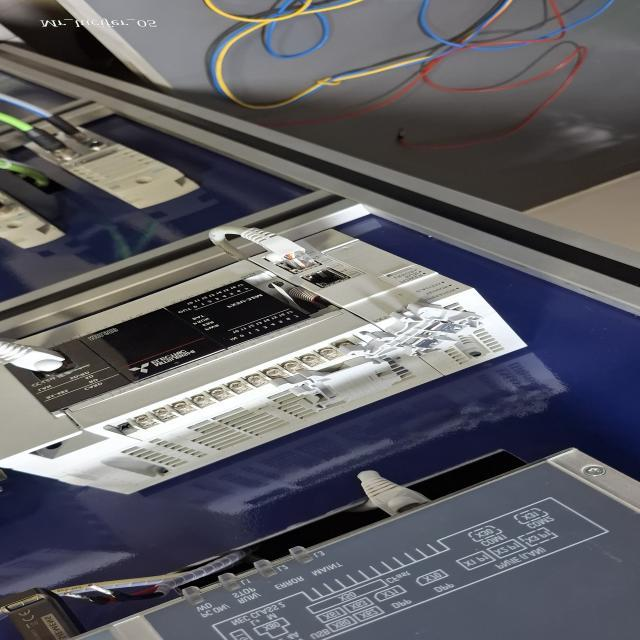Inverted: (266, 358, 414, 416)
Pass: (334, 299, 488, 362)
